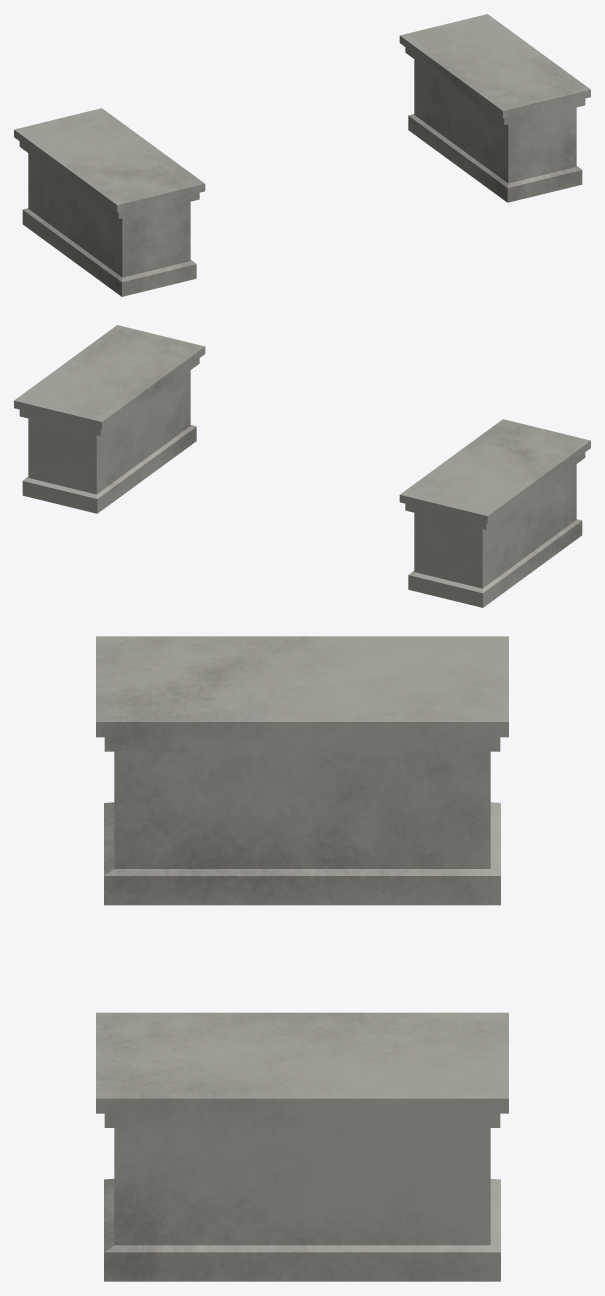
File: Appoggini_Arcosx.fbx
The picture shows the model from 3 angles, top to bottom: view 1: azimuth 30°, elevation 25°; view 2: azimuth 150°, elevation 25°; view 3: azimuth 270°, elevation 25°; orthographic projection. The views are drawn at different scales.
Parts seen in each view (by area): view 1: Cube.021; view 2: Cube.021; view 3: Cube.021.
Part boxes in pixels (x1=…): Cube.021: x1=14, y1=14, x2=590, y2=296; Cube.021: x1=14, y1=325, x2=590, y2=607; Cube.021: x1=96, y1=636, x2=508, y2=1281.
Size of the model in its own units: 2093 by 401 by 791.
